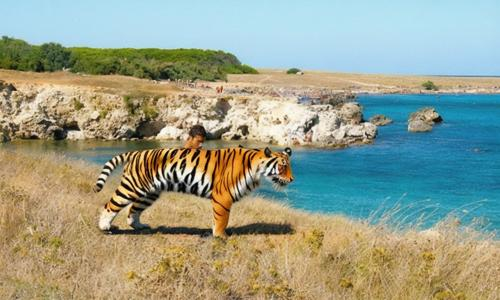cat: (97, 147, 295, 234)
person: (175, 124, 220, 234)
person/hand: (186, 204, 199, 216), (204, 185, 215, 196)
person/head: (187, 125, 205, 150)
